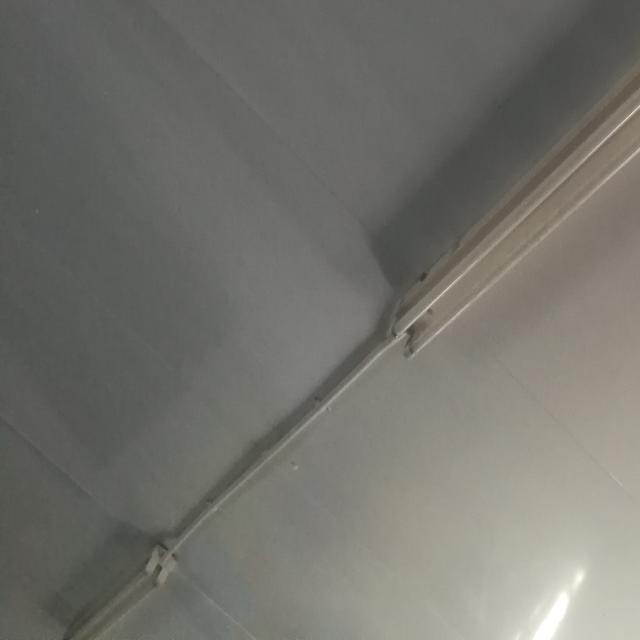fluorescent tube: (372, 0, 640, 388)
